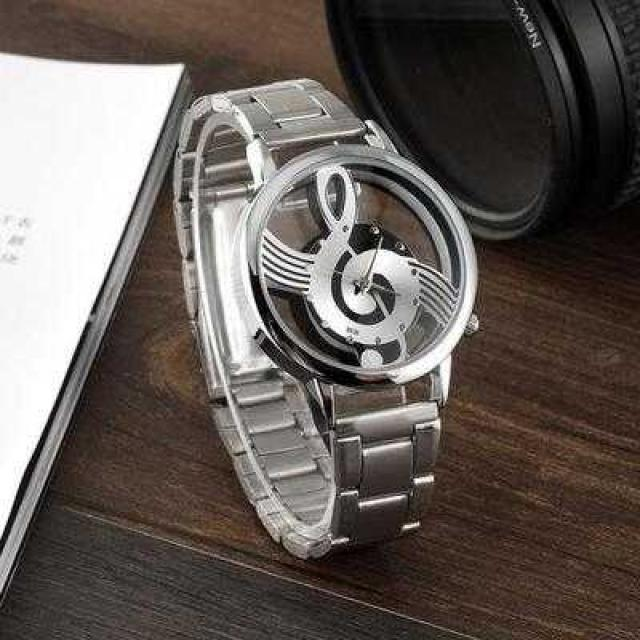watch: (244, 154, 483, 399)
